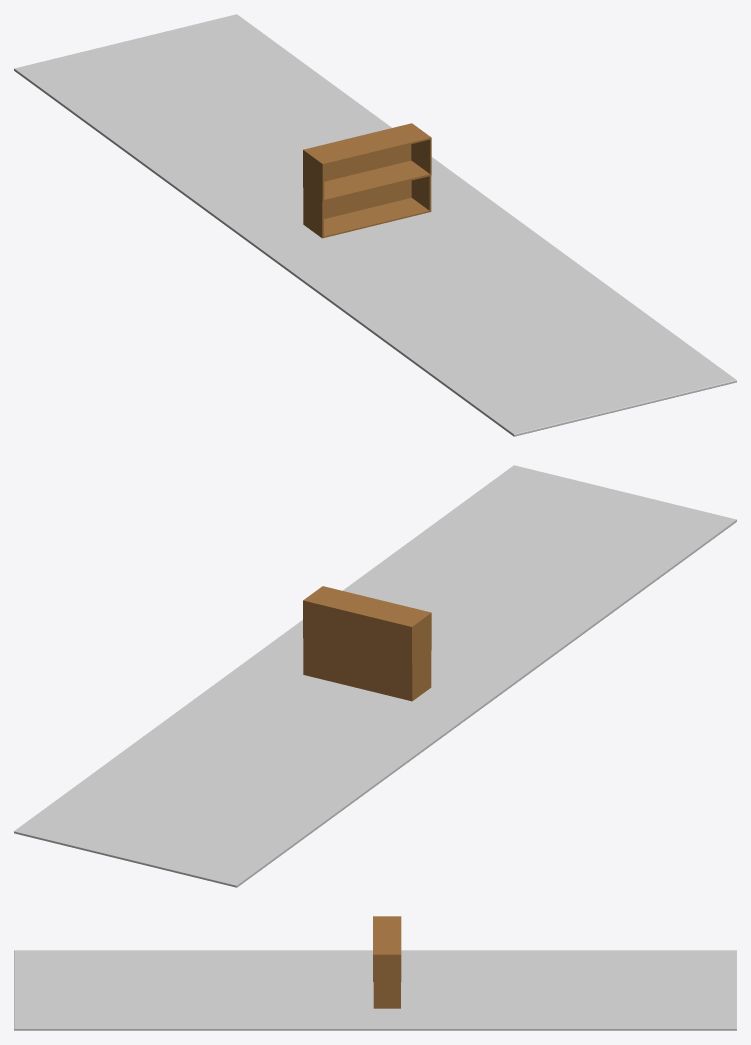
The model's file is floor.glb.
3 renders of one model, top to bottom at view 1: azimuth 30°, elevation 25°; view 2: azimuth 150°, elevation 25°; view 3: azimuth 270°, elevation 25°, orthographic. The views are drawn at different scales.
Parts seen in each view (by area): view 1: Floor, Cube.001, Cube; view 2: Floor, Cube.001, Cube; view 3: Floor, Cube.001, Cube.
Boxes of the visible parts, box(x1,y1,x2,y2) form: Floor: box(14, 14, 736, 436); Cube.001: box(303, 123, 431, 201); Cube: box(303, 175, 431, 238); Floor: box(14, 465, 736, 887); Cube.001: box(303, 586, 431, 664); Cube: box(303, 638, 431, 701); Floor: box(14, 950, 736, 1030); Cube.001: box(373, 916, 401, 981); Cube: box(373, 981, 400, 1008).
Size of the model in its own units: 4.09 by 1.35 by 15.91.
